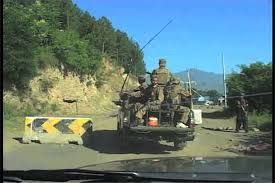uniform: (137, 79, 165, 126), (167, 75, 192, 127), (150, 56, 171, 88)
